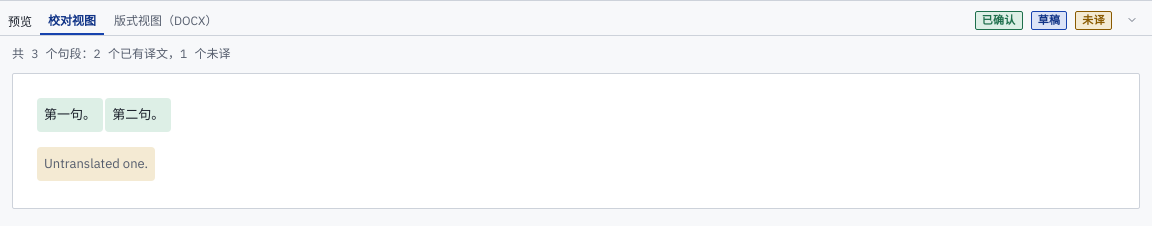
Scenario: PreviewPane › renders the layout view through the real export pipeline
Click the tab "版式视图（DOCX）".
click(166, 20)  # box [106, 5, 225, 35]
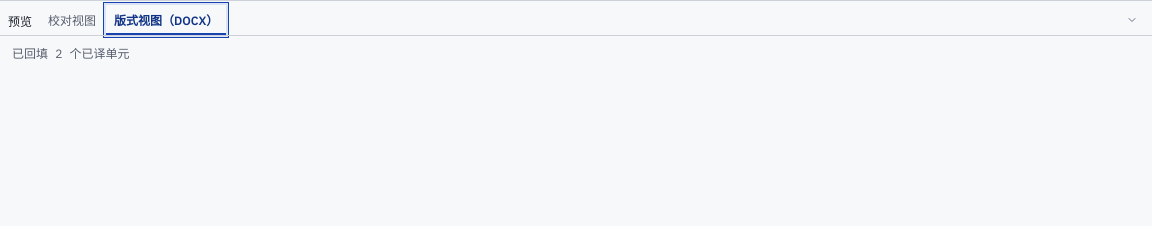
Check: the text "已回填 2 个已译单元" is shown, box [12, 46, 130, 61]
